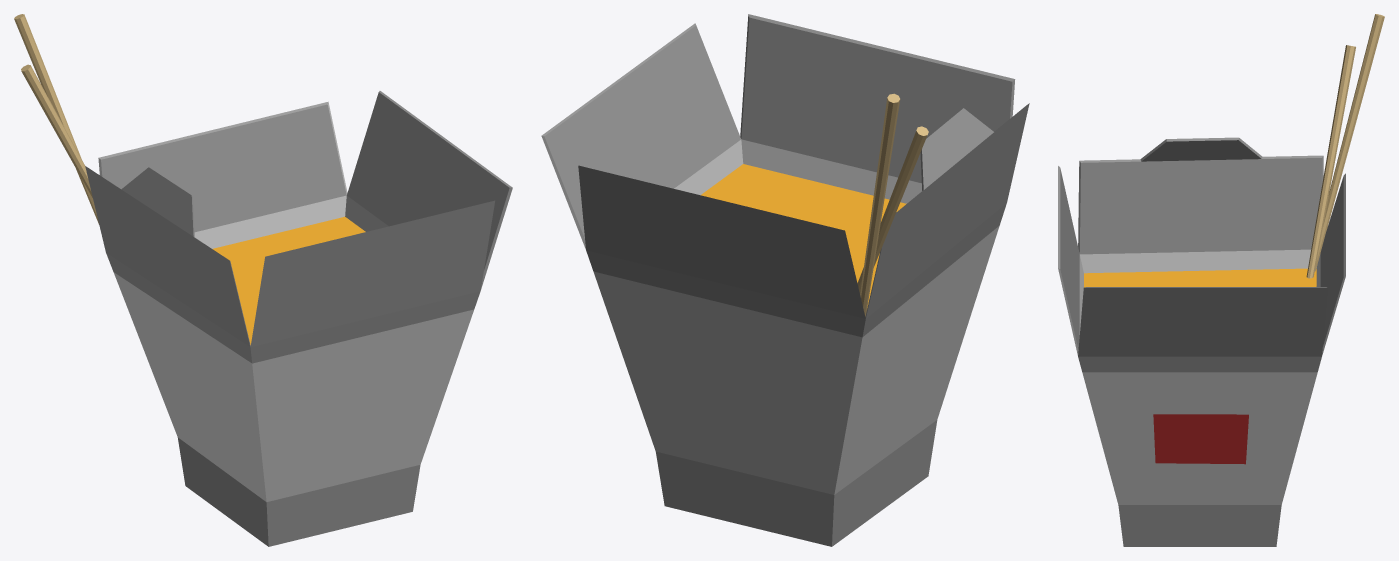
The model's file is Wok.fbx.
3 views of the same model, side by side, from view 1: azimuth 30°, elevation 25°; view 2: azimuth 150°, elevation 25°; view 3: azimuth 270°, elevation 25° (orthographic). The views are drawn at different scales.
Visible parts, largest first — view 1: Cube; view 2: Cube; view 3: Cube.
Boxes of the visible parts, x1,y1,x2,y2 form: Cube: (14, 14, 512, 546); Cube: (541, 14, 1029, 546); Cube: (1058, 14, 1384, 546).
Size of the model in its own units: 0.4509 by 0.5688 by 0.4017.
